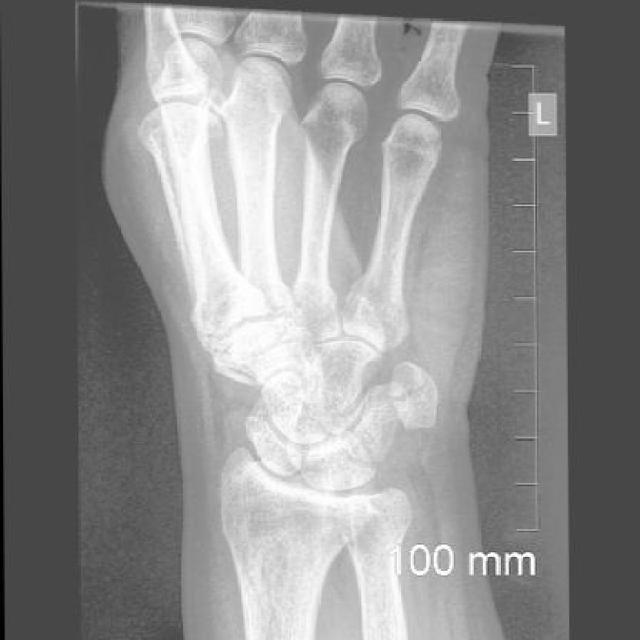Fracture: (386, 369, 429, 403)
